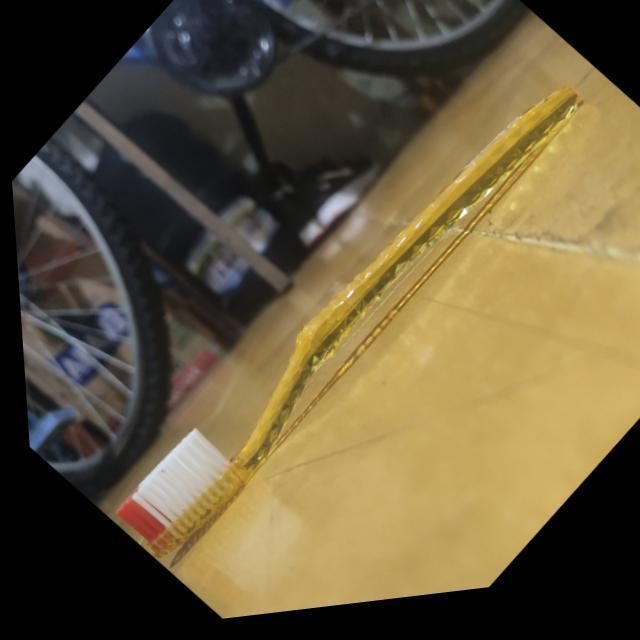toothbrush: (45, 18, 630, 604)
